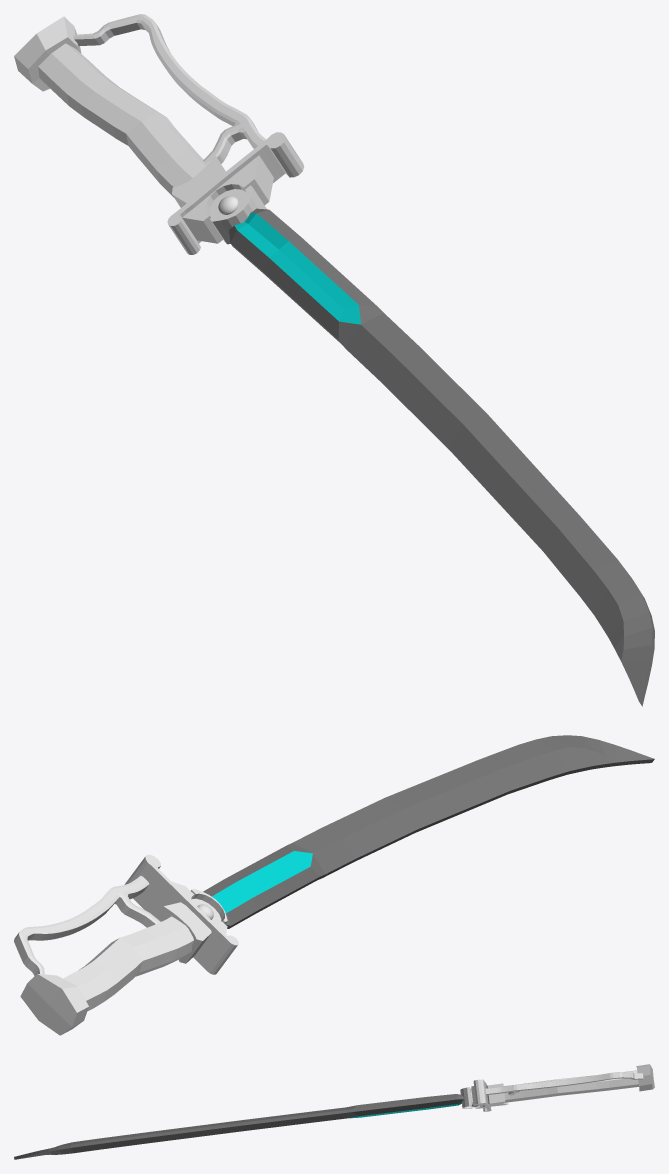
The model's file is saber.fbx.
The picture shows the model from 3 angles, top to bottom: view 1: azimuth 30°, elevation 25°; view 2: azimuth 150°, elevation 25°; view 3: azimuth 270°, elevation 25°; orthographic projection. The views are drawn at different scales.
Parts seen in each view (by area): view 1: Blade, Handle, Guard, BladeBase, Blasebase2, Base, TopBase; view 2: Blade, Handle, Blasebase2, Guard, Base, TopBase, BladeBase; view 3: Blade, Handle, Guard, Base, Blasebase2, BladeBase, TopBase.
Part boxes in pixels (bbox=[...]): Blade: bbox=[229, 208, 654, 706]; Handle: bbox=[38, 43, 206, 197]; Guard: bbox=[73, 14, 265, 164]; BladeBase: bbox=[182, 155, 273, 244]; Blasebase2: bbox=[167, 132, 304, 254]; Base: bbox=[14, 16, 81, 91]; TopBase: bbox=[172, 155, 225, 207]; Blade: bbox=[203, 735, 654, 928]; Handle: bbox=[63, 916, 193, 1011]; Blasebase2: bbox=[124, 854, 238, 974]; Guard: bbox=[14, 875, 160, 975]; Base: bbox=[20, 973, 88, 1035]; TopBase: bbox=[155, 902, 211, 963]; BladeBase: bbox=[171, 881, 227, 933]; Blade: bbox=[14, 1094, 463, 1159]; Handle: bbox=[503, 1070, 639, 1102]; Guard: bbox=[485, 1072, 643, 1095]; Base: bbox=[636, 1064, 654, 1091]; Blasebase2: bbox=[473, 1079, 491, 1111]; BladeBase: bbox=[460, 1086, 485, 1108]; TopBase: bbox=[486, 1083, 508, 1106].
Size of the model in its own units: 125 by 207 by 1062.
